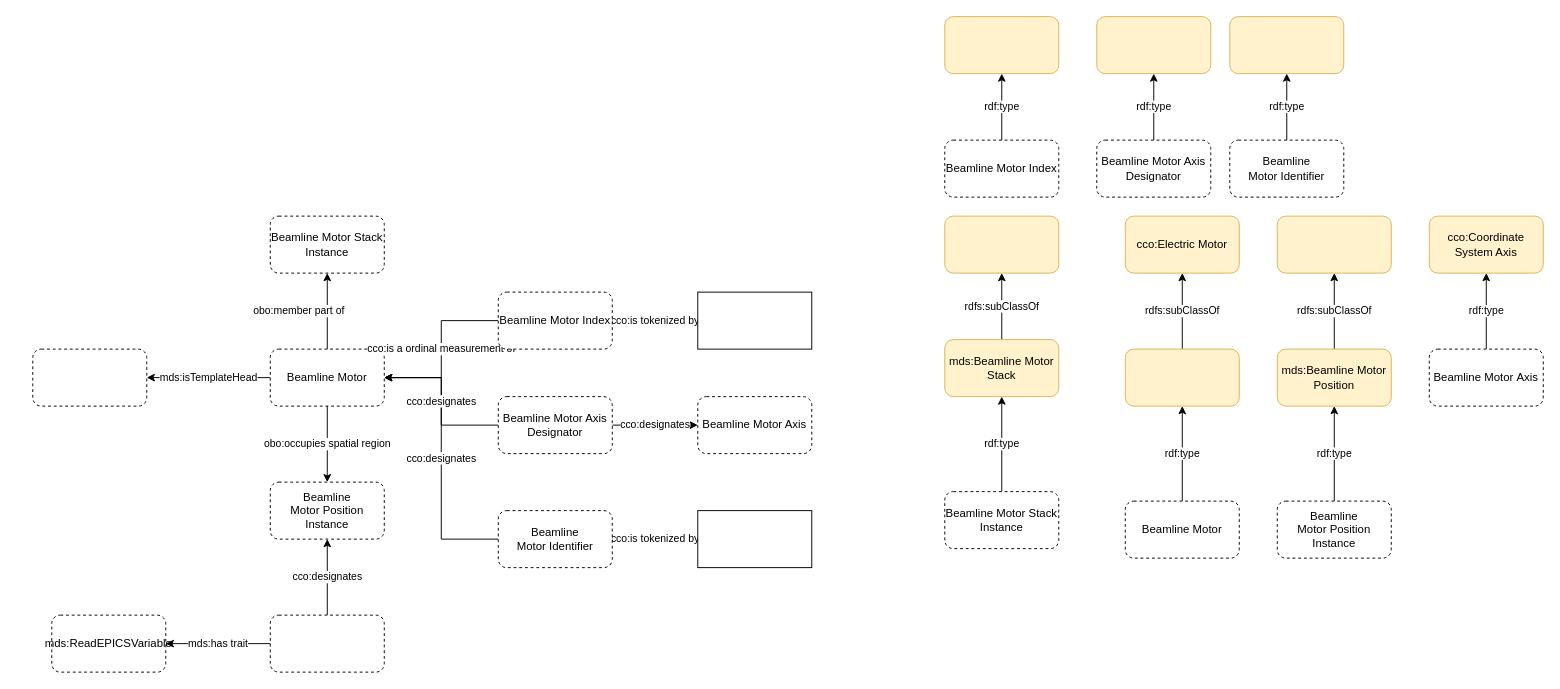
The diagram is 1560 pixels wide and 689 high, and some of its shapes have lost their labels. The centre of each missing label's shape, as x and y in pixels:
"Beamline Motor Identifier Value"^^xsd:string: (754,539)
"Beamline Motor Index Value"^^xsd:string: (754,320)
Beamline Motor Position Identifier: (326,643)
cco:Code Identifier: (1286,45)
cco:Designative Information Content Entity: (1153,45)
cco:Object Aggregate: (1001,244)
cco:Object Track Point: (1333,244)
cco:Sequence Position Ordinality: (1001,45)
mds:BeamlineMotorTemplate: (89,377)
mds:Motor: (1181,377)
